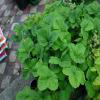Strawberry leaf: (38, 63, 59, 94), (84, 66, 99, 97), (68, 70, 82, 90), (36, 28, 49, 46), (47, 30, 59, 49), (17, 49, 31, 65), (24, 33, 35, 53), (60, 53, 73, 69), (48, 12, 62, 25), (68, 42, 78, 59), (81, 18, 94, 31), (63, 65, 78, 76), (53, 17, 64, 32), (73, 53, 86, 65), (74, 42, 86, 55), (57, 29, 67, 43), (48, 56, 61, 66), (68, 10, 78, 23), (82, 27, 89, 41)
